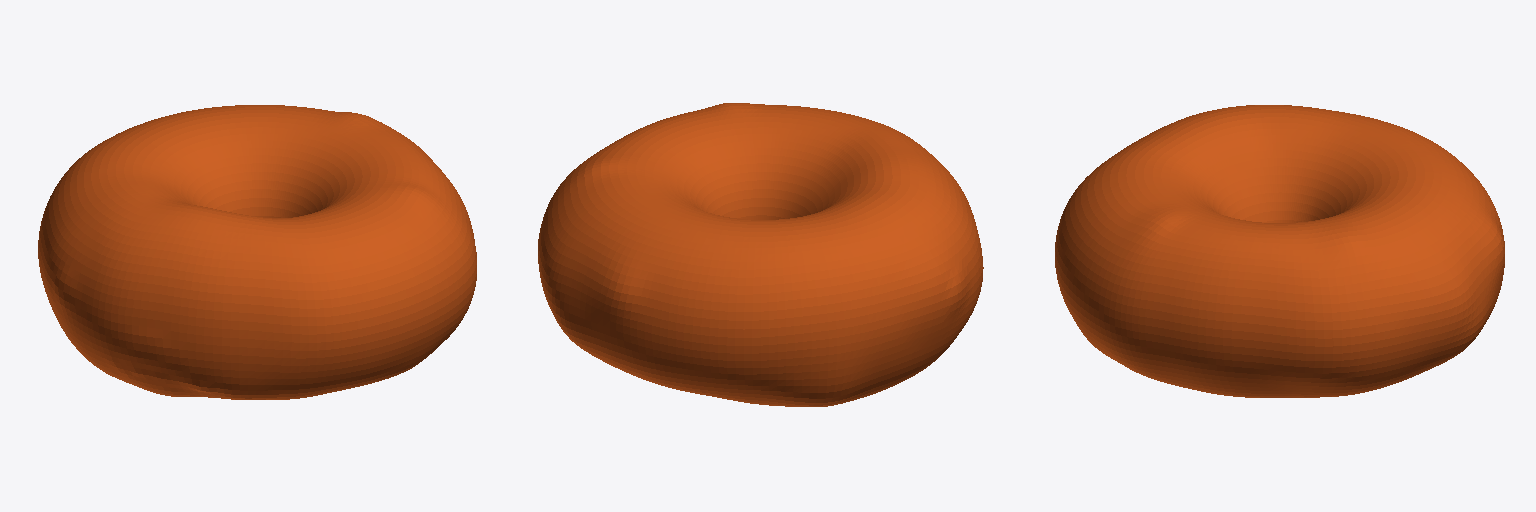
The model's file is Donut_plain_with_normal.obj.
The picture shows the model from 3 angles: view 1: azimuth 30°, elevation 25°; view 2: azimuth 150°, elevation 25°; view 3: azimuth 270°, elevation 25°; orthographic projection.
Visible parts, largest first — view 1: Donut; view 2: Donut; view 3: Donut.
Part boxes in pixels (bbox=[...]): Donut: bbox=[38, 105, 476, 399]; Donut: bbox=[538, 103, 983, 406]; Donut: bbox=[1055, 105, 1504, 397].
Bounding box in the file's own units: 0.0981 × 0.0441 × 0.0987.